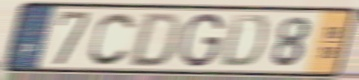7: (54, 9, 92, 67)
8: (271, 15, 312, 69)
C: (87, 11, 139, 68)
D: (125, 11, 185, 69), (218, 13, 271, 70)
G: (178, 11, 226, 69)
